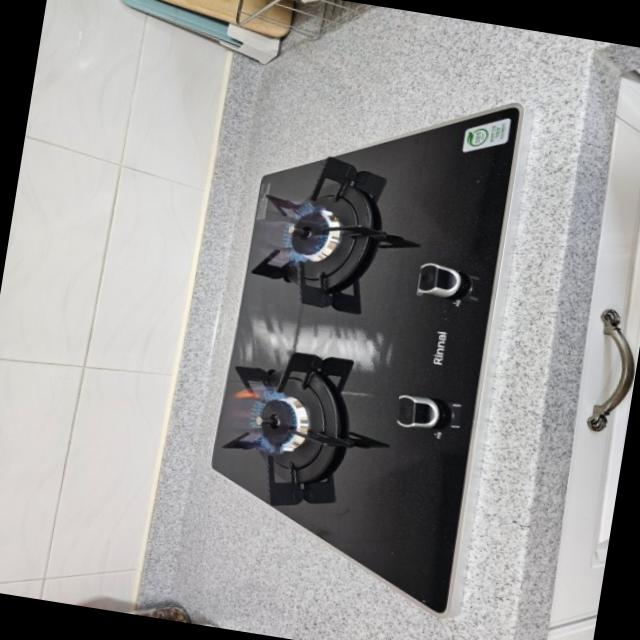knob_ON: (222, 342, 384, 508), (252, 154, 389, 333)
